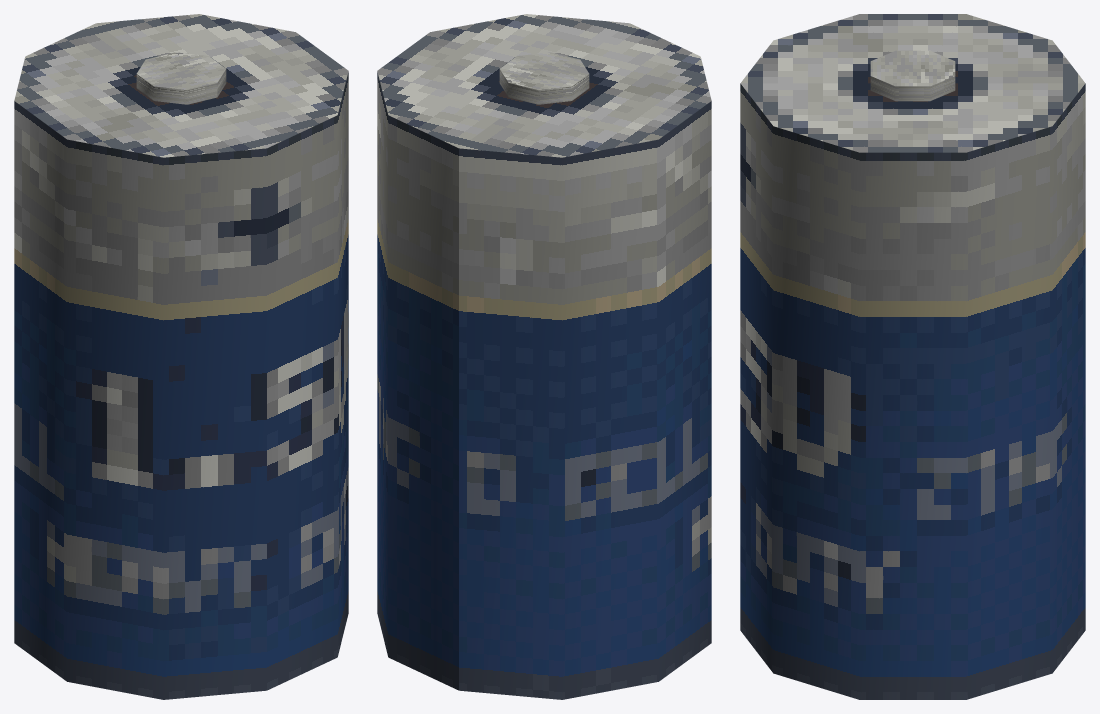
Rendered from battery.glb.
3 views of the same model, side by side, from view 1: azimuth 30°, elevation 25°; view 2: azimuth 150°, elevation 25°; view 3: azimuth 270°, elevation 25° (orthographic).
Visible parts, largest first — view 1: battery; view 2: battery; view 3: battery.
Part boxes in pixels (left/top/right/bottom): battery: left=14, top=14, right=348, bottom=699; battery: left=377, top=14, right=711, bottom=699; battery: left=740, top=14, right=1085, bottom=699.
Size of the model in its own units: 0.0323 by 0.0611 by 0.034.
1 material, 1 textured.
